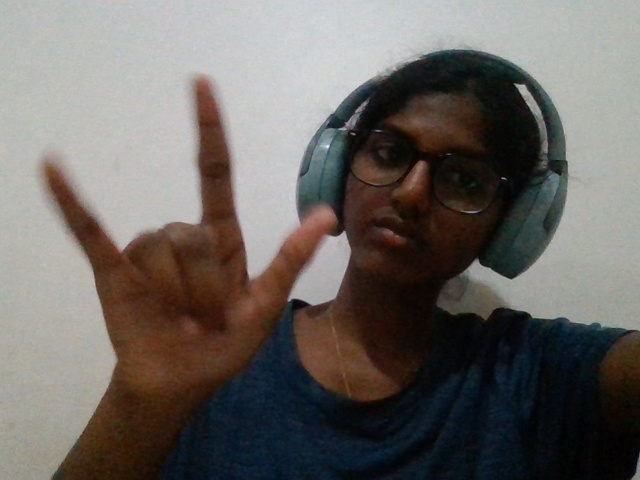I Love You: (12, 61, 344, 436)
